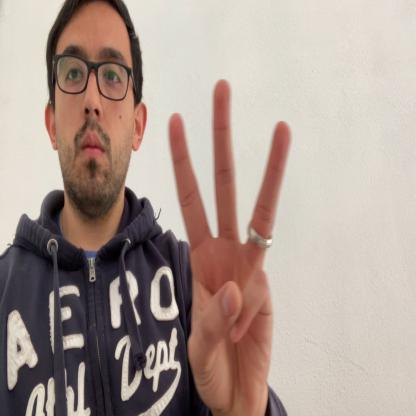W: (168, 77, 293, 415)
